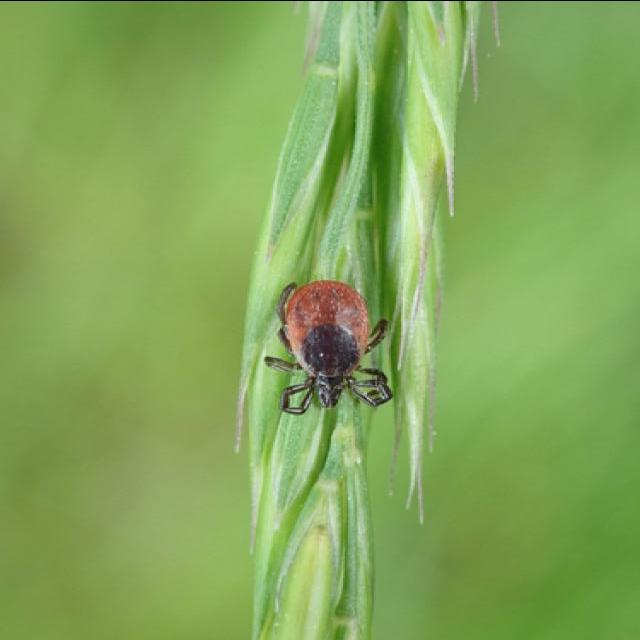Ixodes Ricinus-F: (265, 280, 394, 415)
